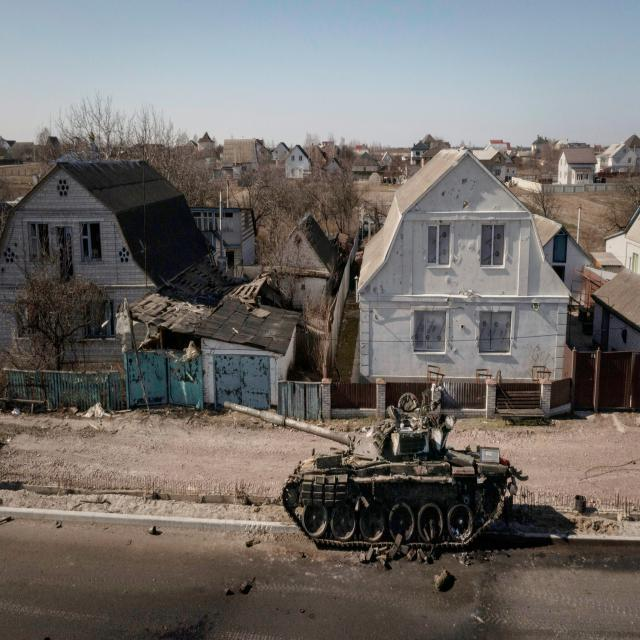Tanks: (223, 390, 519, 556)
